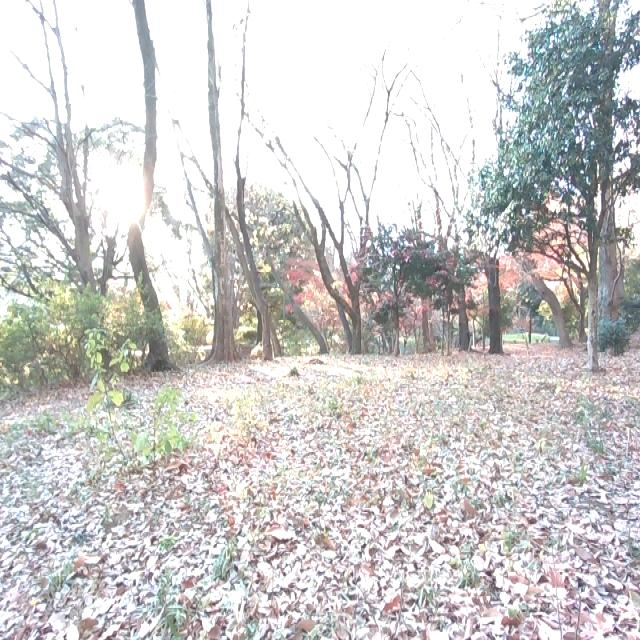bush: (3, 273, 151, 401), (71, 324, 195, 470)
tree: (5, 1, 125, 376), (248, 83, 411, 354), (171, 0, 244, 370), (186, 104, 284, 358), (556, 4, 616, 372), (125, 0, 179, 376), (601, 10, 625, 342), (518, 253, 573, 351), (473, 238, 517, 358), (453, 234, 472, 354)
